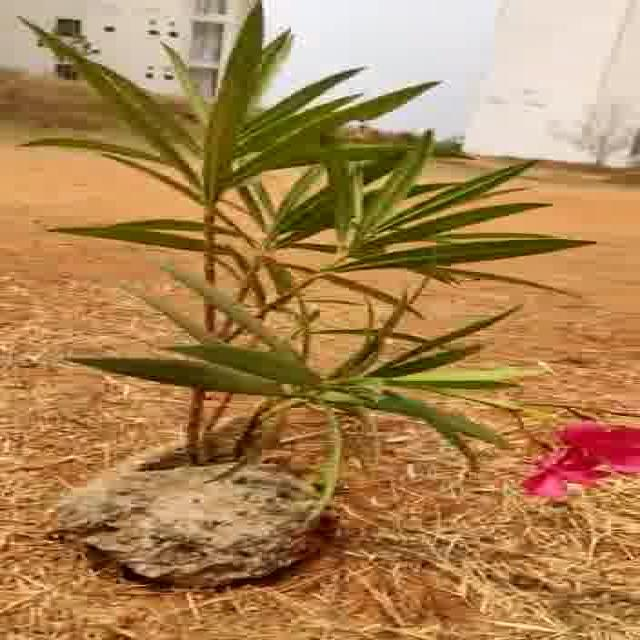Oleander: (11, 22, 637, 486)
